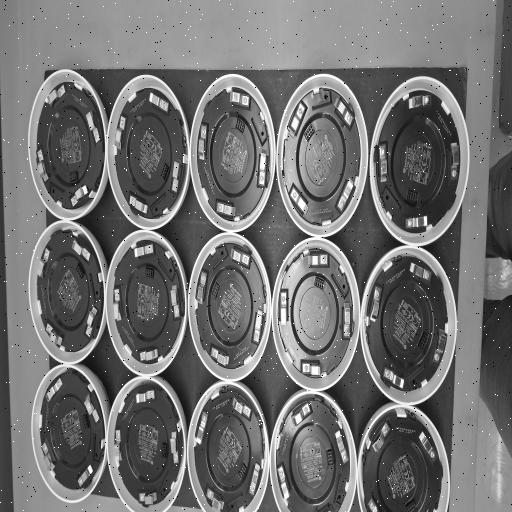yayli: (287, 100, 307, 139), (288, 182, 308, 217), (333, 95, 353, 129), (337, 177, 354, 214), (371, 422, 390, 454), (432, 329, 448, 367), (419, 430, 437, 462), (290, 401, 312, 426), (232, 396, 252, 422), (382, 367, 404, 390), (276, 464, 290, 500), (334, 429, 348, 465), (369, 286, 383, 322), (206, 486, 225, 511), (230, 246, 251, 268), (86, 111, 100, 144), (409, 262, 431, 283), (46, 84, 66, 107), (252, 309, 265, 344), (46, 376, 64, 401), (148, 92, 168, 114), (72, 239, 91, 262), (84, 307, 98, 338), (44, 324, 62, 348), (70, 184, 88, 208), (407, 93, 431, 111), (36, 151, 49, 184), (196, 270, 208, 305), (42, 441, 56, 471), (249, 462, 261, 497), (37, 248, 51, 278), (196, 412, 209, 444), (170, 160, 182, 194), (210, 346, 229, 367), (300, 359, 322, 377), (257, 153, 268, 188), (129, 195, 148, 215), (450, 143, 460, 181), (115, 116, 126, 150), (198, 124, 208, 161), (379, 142, 388, 182), (343, 303, 353, 339), (230, 90, 250, 108), (114, 428, 124, 462), (216, 201, 235, 218), (138, 490, 158, 506), (113, 290, 123, 322), (309, 253, 330, 268), (83, 394, 96, 418), (78, 465, 92, 487), (405, 216, 427, 230), (171, 284, 180, 318), (134, 243, 154, 258), (171, 431, 180, 463), (136, 389, 155, 404), (280, 290, 288, 324), (139, 348, 157, 362)
